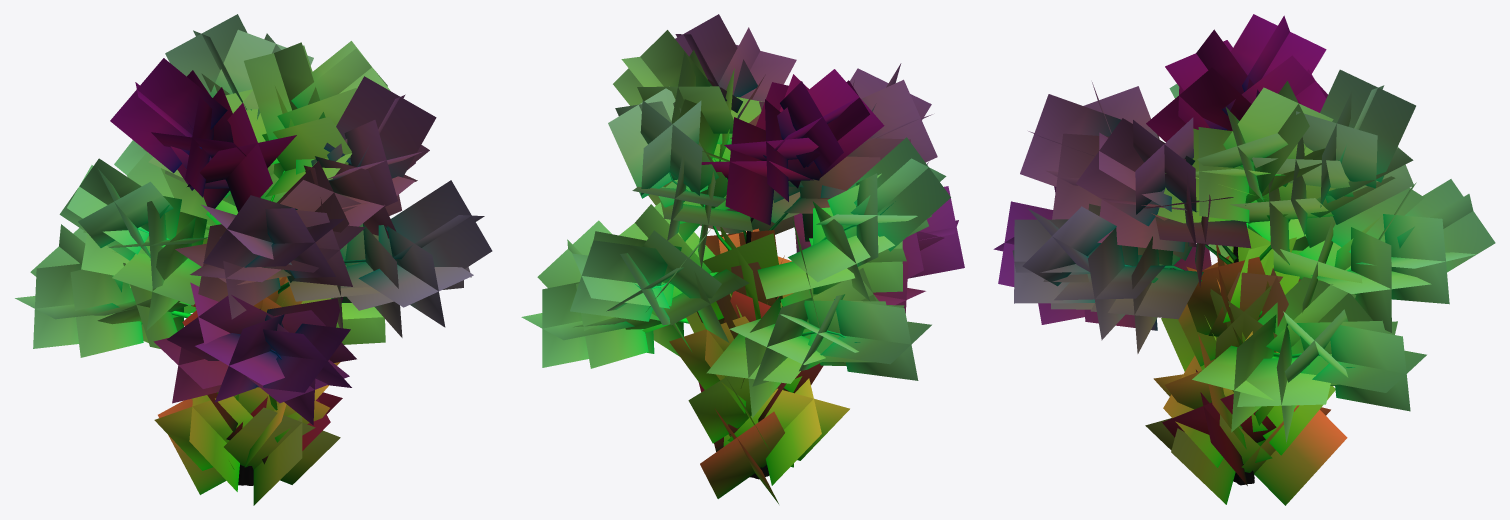
File: URP_P3_Tree_9_LOD_1.fbx
3 views of the same model, side by side, from view 1: azimuth 30°, elevation 25°; view 2: azimuth 150°, elevation 25°; view 3: azimuth 270°, elevation 25° (orthographic). The views are drawn at different scales.
Visible parts, largest first — view 1: Tree_9_LOD_1; view 2: Tree_9_LOD_1; view 3: Tree_9_LOD_1.
Boxes of the visible parts, x1,y1,x2,y2 form: Tree_9_LOD_1: [15, 14, 492, 505]; Tree_9_LOD_1: [521, 14, 964, 503]; Tree_9_LOD_1: [993, 14, 1495, 505].
Bounding box in the file's own units: 509 × 595 × 604.
